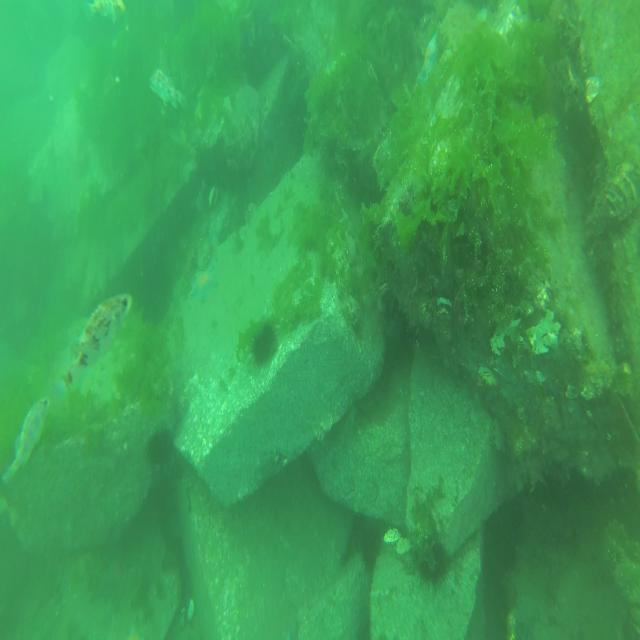echinus: (416, 539, 448, 591), (145, 427, 176, 470), (249, 322, 277, 366), (361, 528, 383, 574)
starfish: (190, 268, 216, 305), (421, 33, 439, 80)
